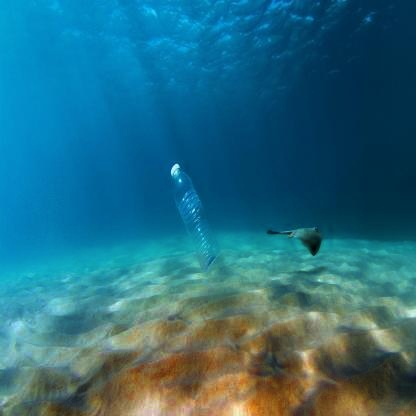pbottle: (161, 158, 225, 272)
